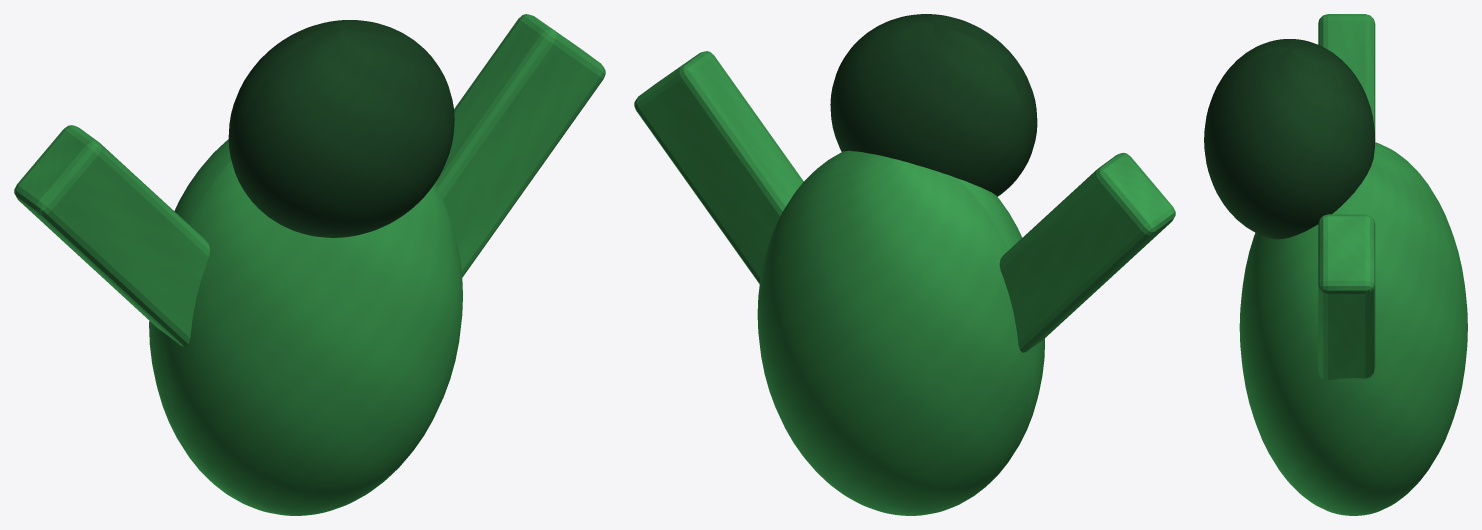
Rendered from monster_Mantis.glb.
3 renders of one model, left to right at view 1: azimuth 30°, elevation 25°; view 2: azimuth 150°, elevation 25°; view 3: azimuth 270°, elevation 25°, orthographic. The views are drawn at different scales.
Visible parts, largest first — view 1: Thorax, Head, ScytheArm.001, ScytheArm; view 2: Thorax, Head, ScytheArm.001, ScytheArm; view 3: Thorax, Head, ScytheArm.001, ScytheArm.
Part boxes in pixels (bbox=[...]): Thorax: bbox=[149, 139, 462, 515]; Head: bbox=[228, 20, 454, 237]; ScytheArm.001: bbox=[435, 14, 605, 277]; ScytheArm: bbox=[14, 125, 210, 346]; Thorax: bbox=[757, 150, 1044, 515]; Head: bbox=[830, 14, 1037, 196]; ScytheArm.001: bbox=[634, 51, 803, 283]; ScytheArm: bbox=[999, 152, 1175, 352]; Thorax: bbox=[1239, 142, 1467, 515]; Head: bbox=[1204, 39, 1375, 239]; ScytheArm.001: bbox=[1318, 214, 1375, 380]; ScytheArm: bbox=[1318, 14, 1375, 141].
Size of the model in its own units: 1.66 by 1.41 by 0.74.
2 materials, 2 textured.
